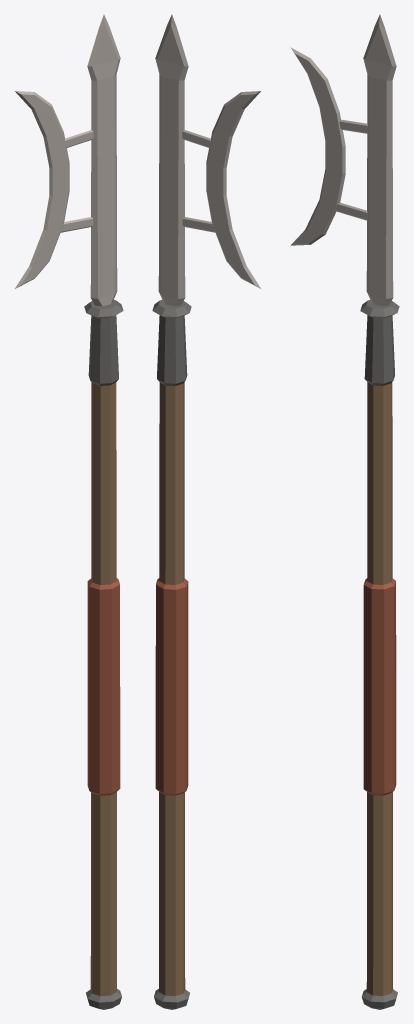
Rendered from SM_pwe_china_halberd_04b.fbx.
3 renders of one model, left to right at view 1: azimuth 30°, elevation 25°; view 2: azimuth 150°, elevation 25°; view 3: azimuth 330°, elevation 25°, orthographic.
Visible parts, largest first — view 1: SM_pwe_china_halberd_04b; view 2: SM_pwe_china_halberd_04b; view 3: SM_pwe_china_halberd_04b.
Boxes of the visible parts, x1,y1,x2,y2 form: SM_pwe_china_halberd_04b: (15, 14, 123, 1009); SM_pwe_china_halberd_04b: (152, 14, 260, 1009); SM_pwe_china_halberd_04b: (290, 14, 399, 1009).
Size of the model in its own units: 20.51 by 182 by 6.76.
